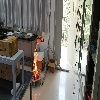fire: (32, 39, 39, 78)
